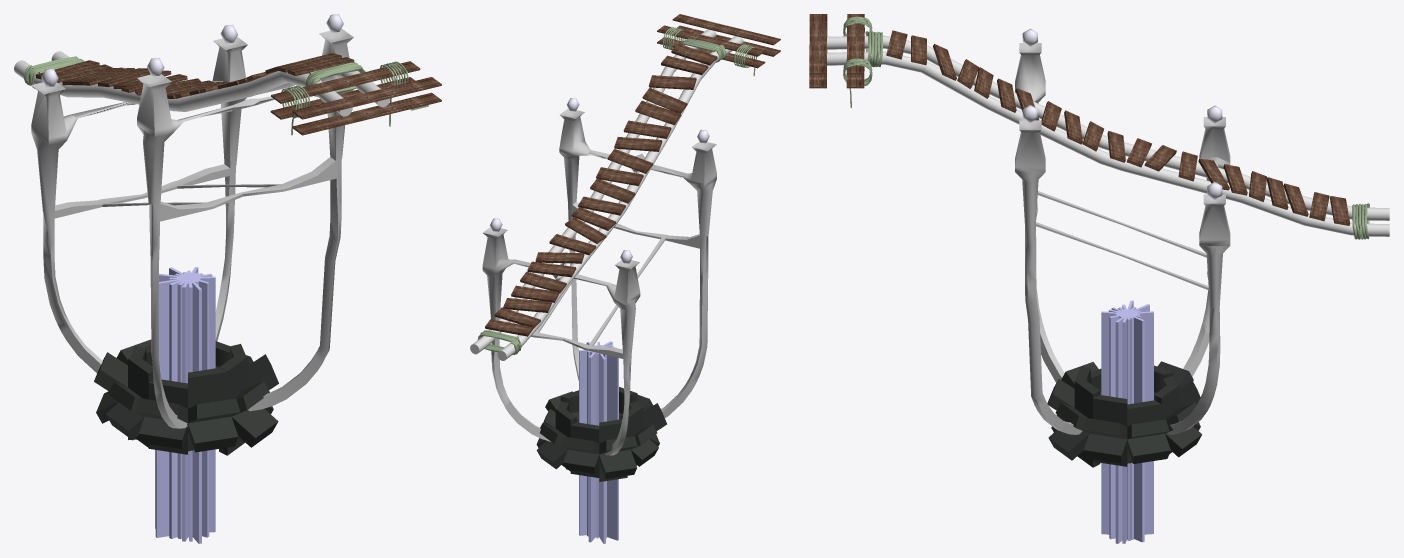
The model's file is 1_bridge_down.fbx.
3 renders of one model, left to right at view 1: azimuth 30°, elevation 25°; view 2: azimuth 150°, elevation 25°; view 3: azimuth 270°, elevation 25°, orthographic. The views are drawn at different scales.
Visible parts, largest first — view 1: gravityring, 1_straightup_base, 1_straightup_LaL, 1_straightdown_verschlag02, 1_straightup_verschlag, 1_straightup_LaL_ropes, 1_straightup_verschlag_ropes; view 2: 1_straightup_LaL, 1_straightup_base, gravityring, 1_straightdown_verschlag02, 1_straightup_verschlag, 1_straightup_LaL_ropes, 1_straightup_verschlag_ropes; view 3: gravityring, 1_straightup_LaL, 1_straightup_base, 1_straightdown_verschlag02, 1_straightup_verschlag, 1_straightup_LaL_ropes.
Part boxes in pixels (x1,y1,x2,y2): gravityring: [94, 267, 278, 543]; 1_straightup_base: [31, 14, 353, 428]; 1_straightup_LaL: [14, 51, 390, 116]; 1_straightdown_verschlag02: [292, 77, 441, 135]; 1_straightup_verschlag: [270, 61, 420, 119]; 1_straightup_LaL_ropes: [23, 56, 365, 96]; 1_straightup_verschlag_ropes: [281, 61, 408, 135]; 1_straightup_LaL: [470, 29, 743, 360]; 1_straightup_base: [482, 98, 716, 455]; gravityring: [536, 341, 666, 543]; 1_straightdown_verschlag02: [672, 14, 780, 56]; 1_straightup_verschlag: [657, 25, 765, 68]; 1_straightup_LaL_ropes: [477, 38, 726, 355]; 1_straightup_verschlag_ropes: [662, 27, 756, 76]; gravityring: [1047, 300, 1202, 543]; 1_straightup_LaL: [827, 30, 1389, 236]; 1_straightup_base: [1015, 28, 1230, 434]; 1_straightdown_verschlag02: [809, 14, 827, 88]; 1_straightup_verschlag: [846, 14, 864, 88]; 1_straightup_LaL_ropes: [865, 31, 1369, 239].
Size of what is drawn, in the model's own units: 43.43 by 116 by 123.
Materials: 7 (1 with a texture image).
